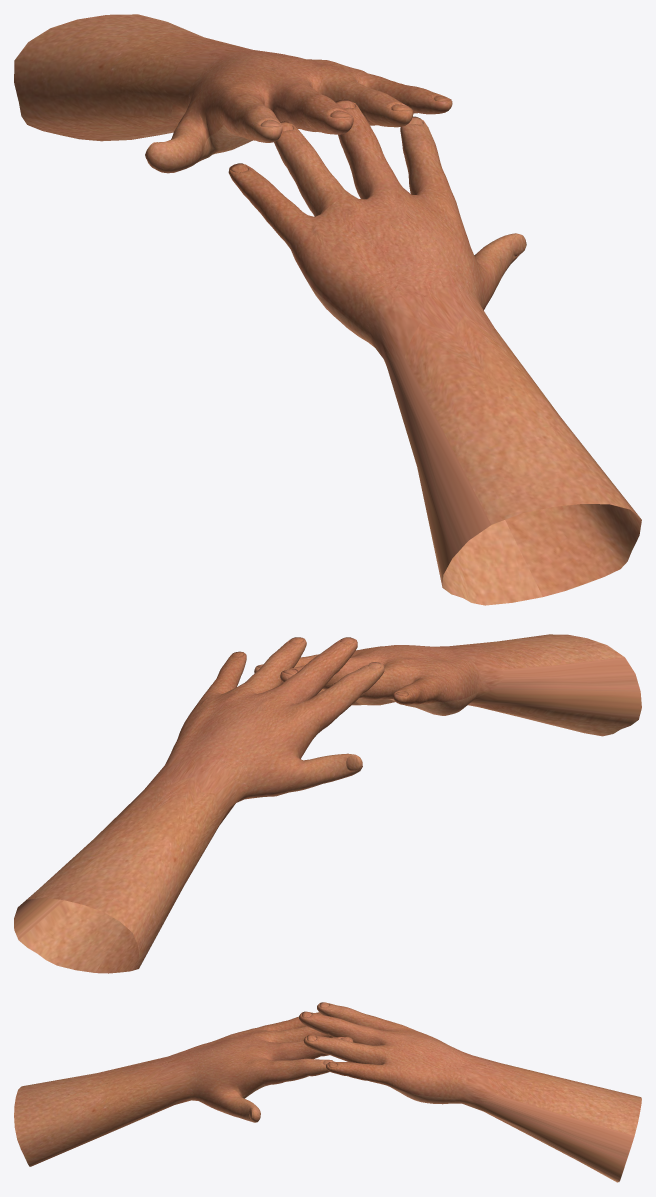
File: hands_000036.obj
3 views of the same model, one above another, from view 1: azimuth 30°, elevation 25°; view 2: azimuth 150°, elevation 25°; view 3: azimuth 270°, elevation 25° (orthographic). The views are drawn at different scales.
Parts seen in each view (by area): view 1: hand.001_Mesh.001, hand_Mesh; view 2: hand_Mesh, hand.001_Mesh.001; view 3: hand_Mesh, hand.001_Mesh.001.
Part boxes in pixels (left/top/right/bottom): hand.001_Mesh.001: left=228, top=99, right=641, bottom=605; hand_Mesh: left=14, top=14, right=452, bottom=173; hand_Mesh: left=14, top=637, right=384, bottom=973; hand.001_Mesh.001: left=254, top=634, right=641, bottom=736; hand_Mesh: left=299, top=1002, right=641, bottom=1182; hand.001_Mesh.001: left=14, top=1012, right=353, bottom=1166.
Bounding box in the file's own units: 1.71 × 1.54 × 5.59.
Materials: 1 (1 with a texture image).
